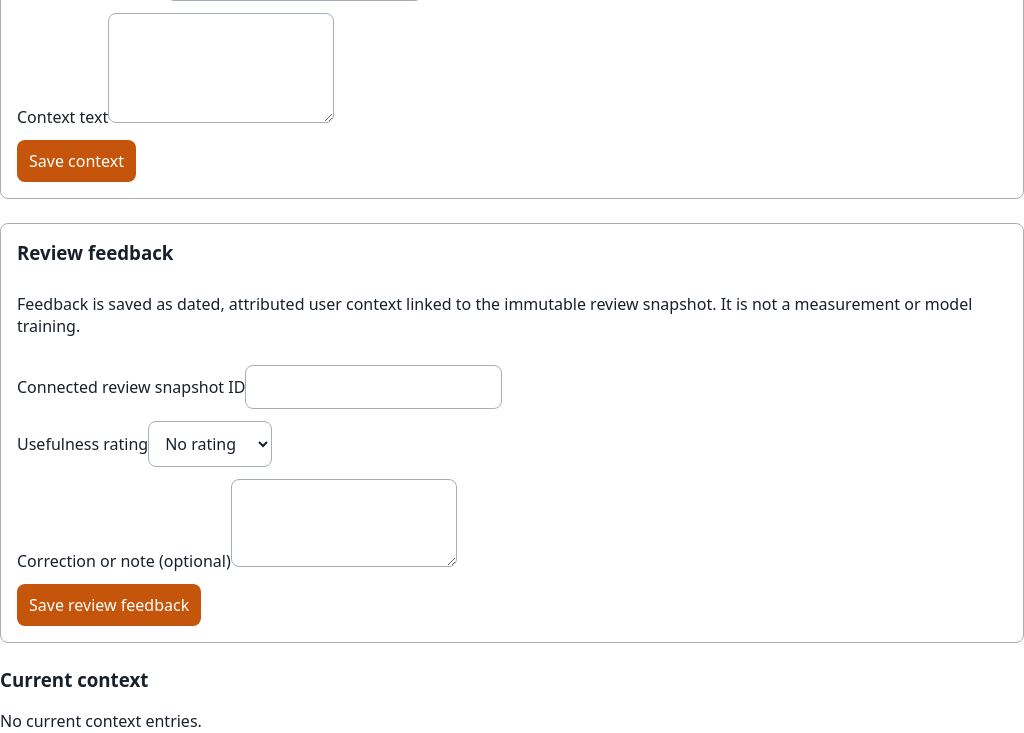
Scenario: athlete context lifecycle › records feedback against an immutable snapshot as attributed context, not measurement
(page scrolled)
Type "00000000-0000-0000-0000-000000000001" into the field labelled "Connected review snapshot ID" at (374, 387), box [245, 365, 502, 409]
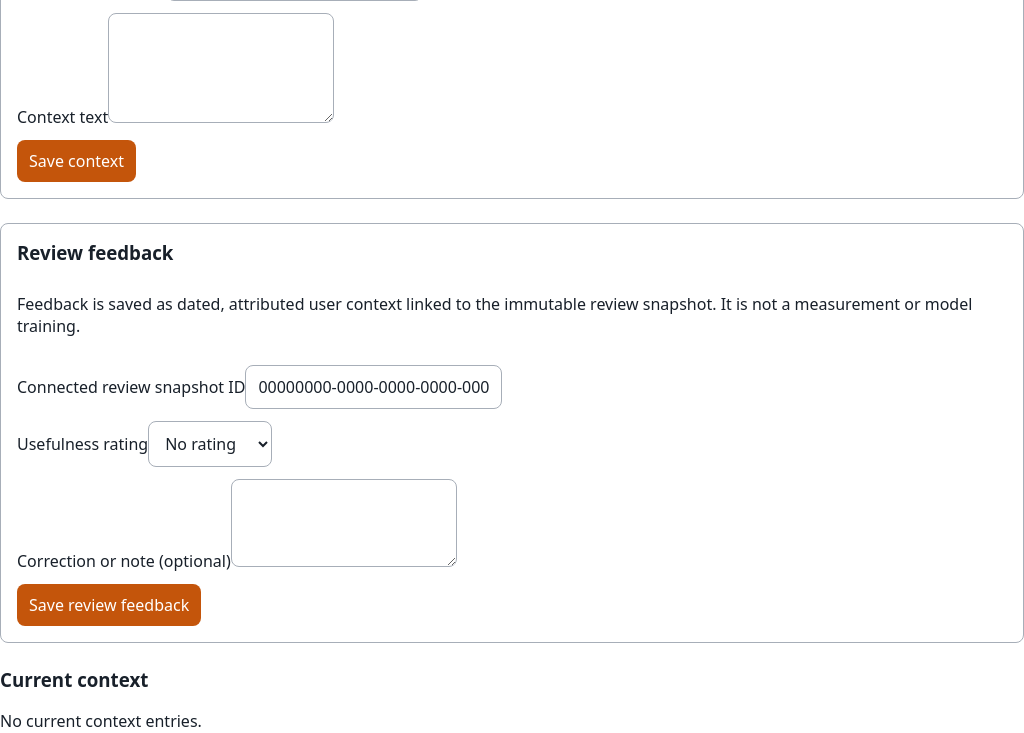
Select "Not useful" in the dropdown labelled "Usefulness rating" at (210, 444), box [148, 421, 272, 467]
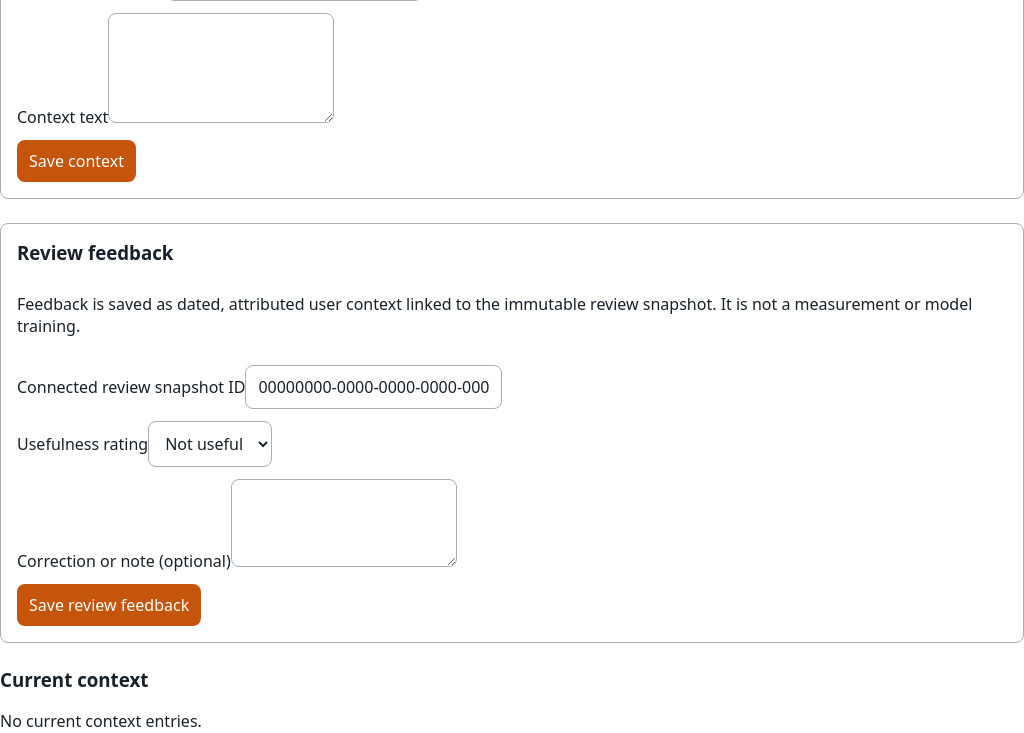
Type "Synthetic correction" into the text box labelled "Correction or note (optional)" at (344, 523), box [231, 479, 457, 567]
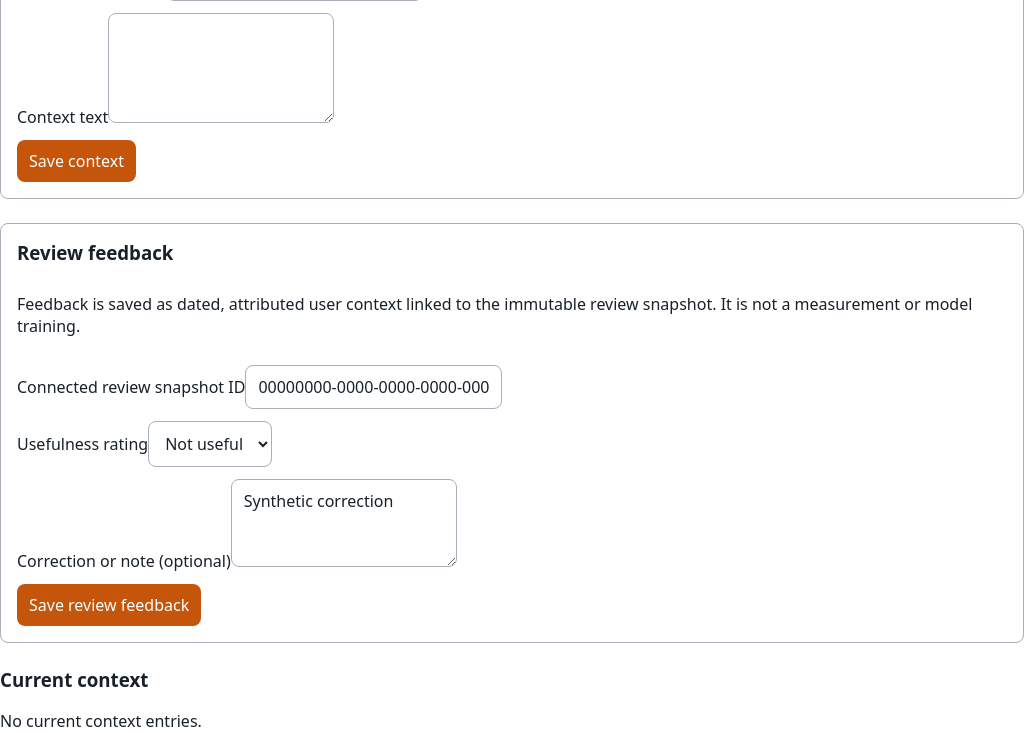
Click the button "Save review feedback" at (109, 605), box [17, 584, 201, 626]
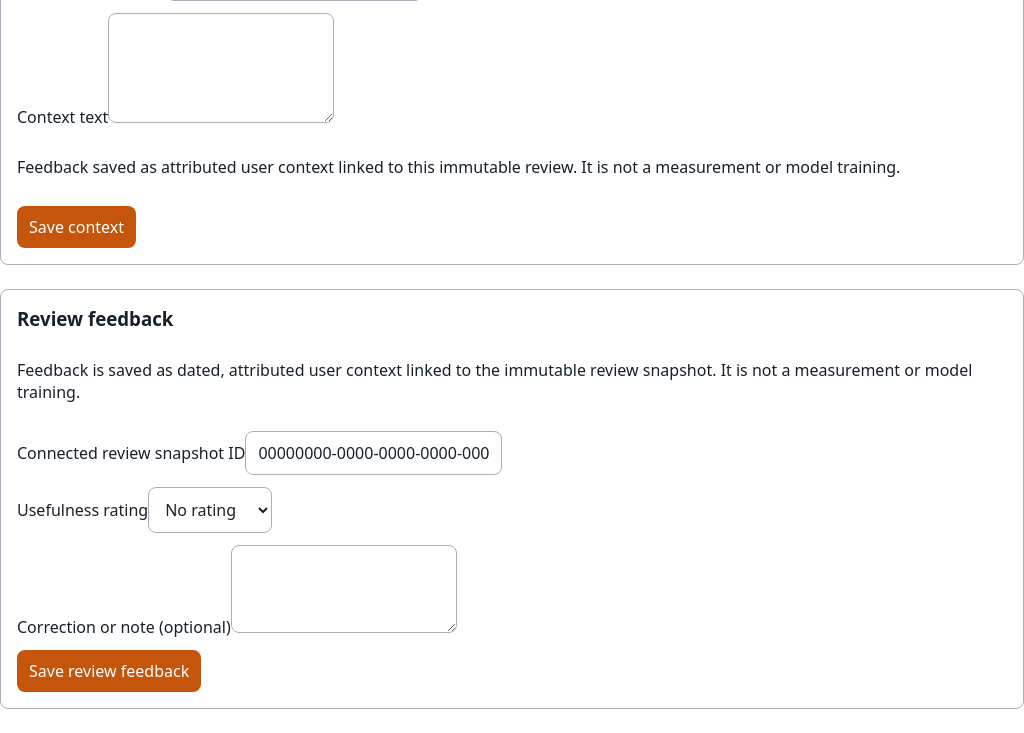
Expected: the text "linked to this immutable review" is shown, [17, 156, 900, 178]
